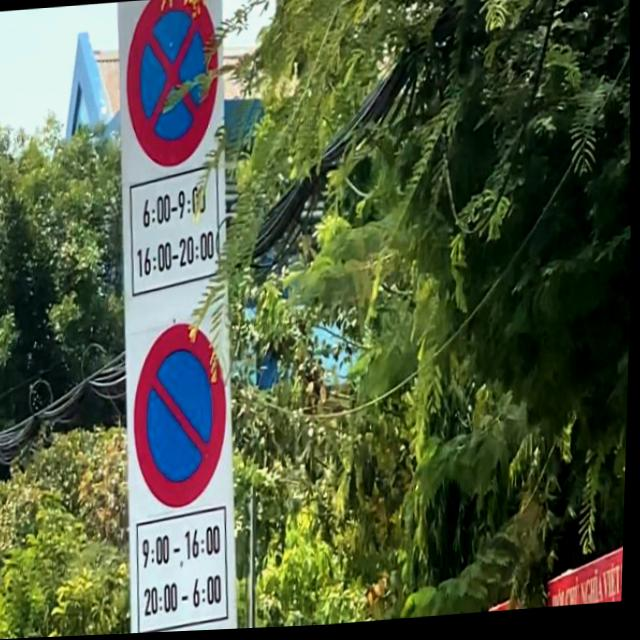Cam do xe: (130, 320, 235, 514)
Cam dung xe va do xe: (121, 0, 222, 172)
